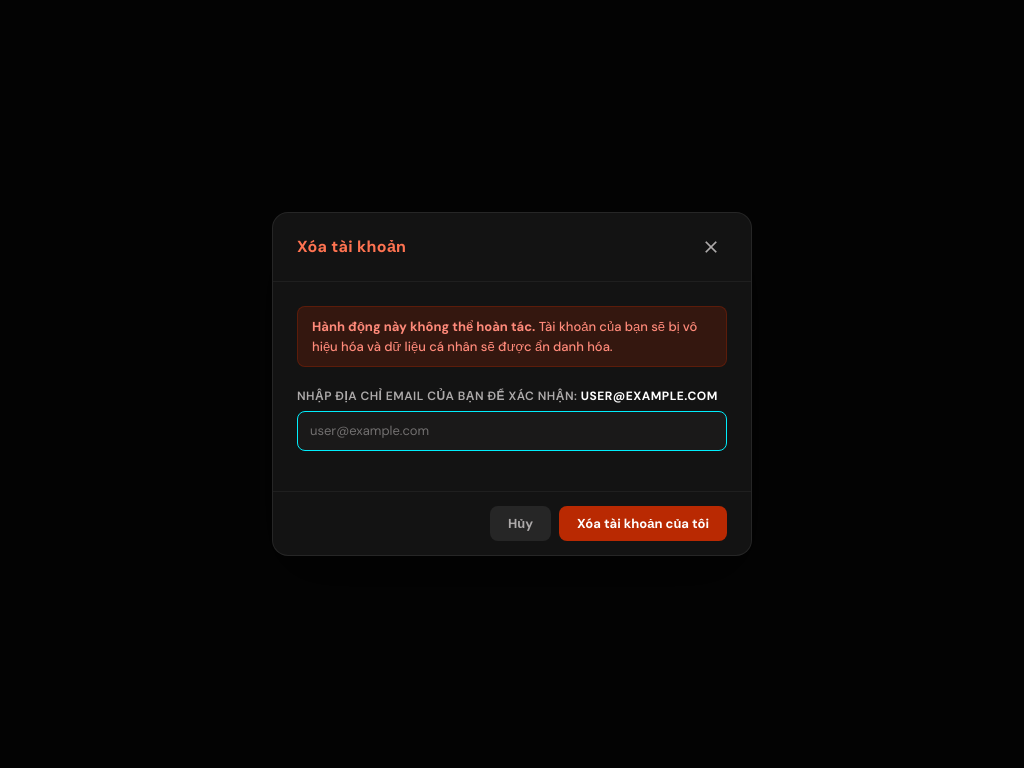
Test: DeleteAccountModal › mfaEnabled=false › shows validation error when confirmation email does not match
In the field with placeholder "user@example.com": (512, 431) [297,411,727,450], type "wrong@example.com"
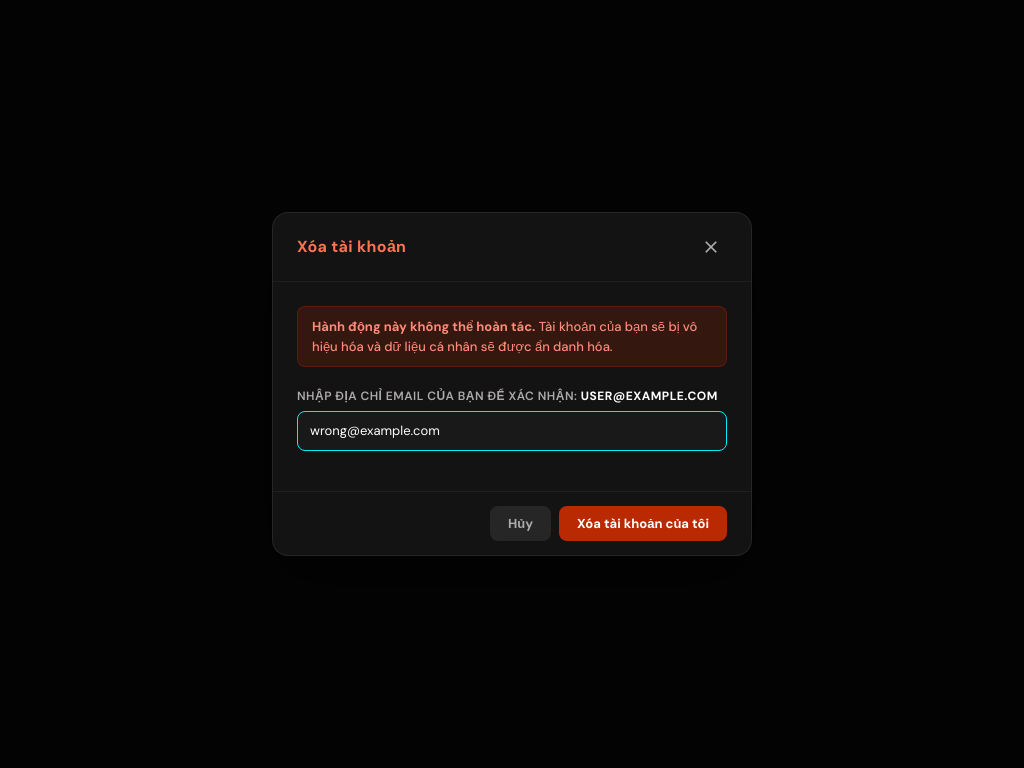
Click the button "Xóa tài khoản của tôi": (643, 523) [559,506,727,541]
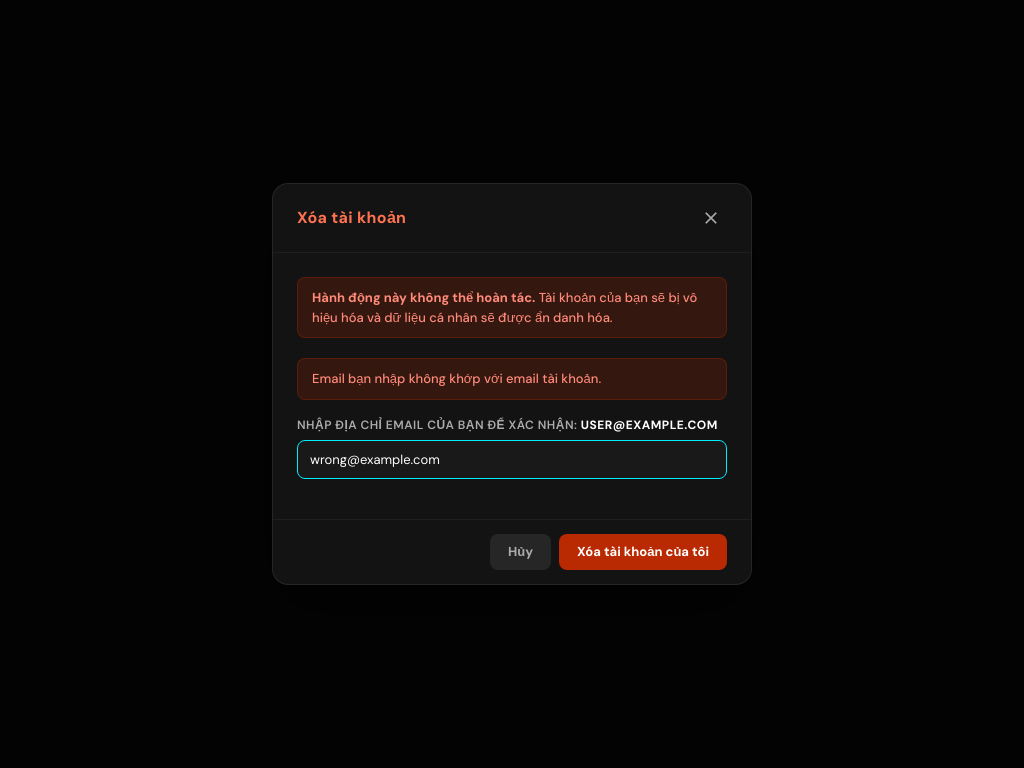
Expected: the text "Email bạn nhập không khớp với email tài khoản." is shown, [297,358,727,400]
